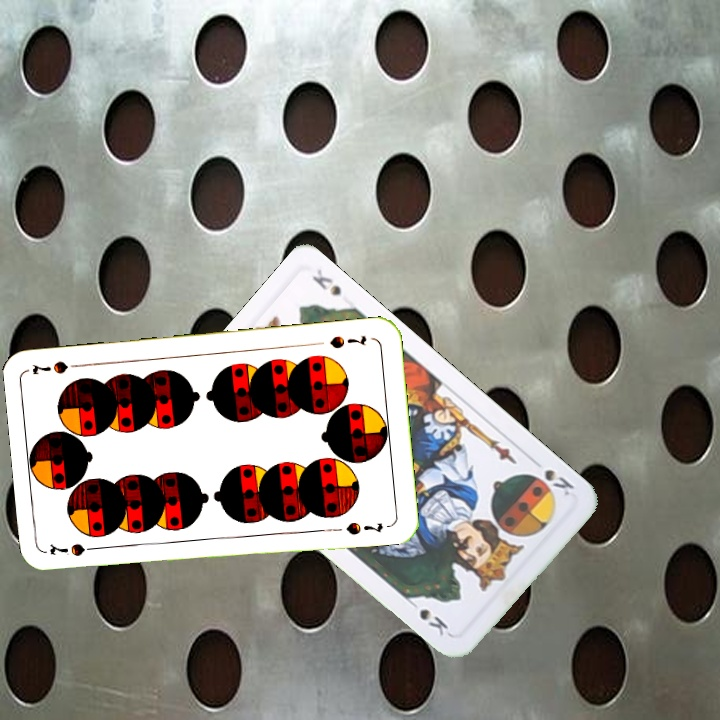S7: (45, 539, 104, 559), (325, 332, 369, 352)
SK: (527, 454, 577, 499)
